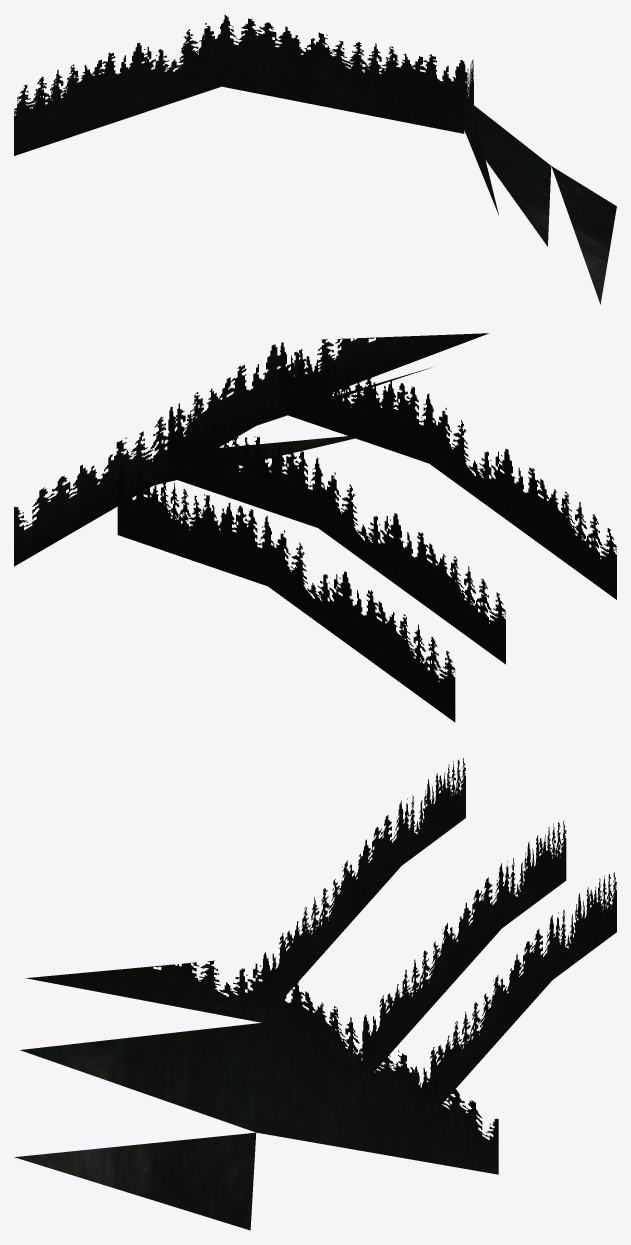
The model's file is cell_-3_-8.gltf.
3 renders of one model, top to bottom at view 1: azimuth 30°, elevation 25°; view 2: azimuth 150°, elevation 25°; view 3: azimuth 270°, elevation 25°, orthographic. The views are drawn at different scales.
Visible parts, largest first — view 1: cell_-3_-8; view 2: cell_-3_-8; view 3: cell_-3_-8.
Part boxes in pixels (x1,y1,x2,y2): cell_-3_-8: [14, 15, 616, 304]; cell_-3_-8: [14, 333, 616, 722]; cell_-3_-8: [14, 758, 616, 1230].
Size of the model in its own units: 116 by 46.22 by 103.
2 materials, 2 textured.
